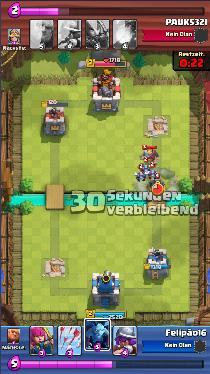enemy_knight: (139, 147, 160, 163)
enemy_mini_pekka: (149, 178, 165, 189)
enemy_minion: (134, 171, 145, 182), (148, 170, 158, 179), (140, 166, 151, 173)
